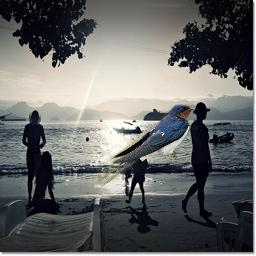Swallow: (97, 104, 196, 187)
